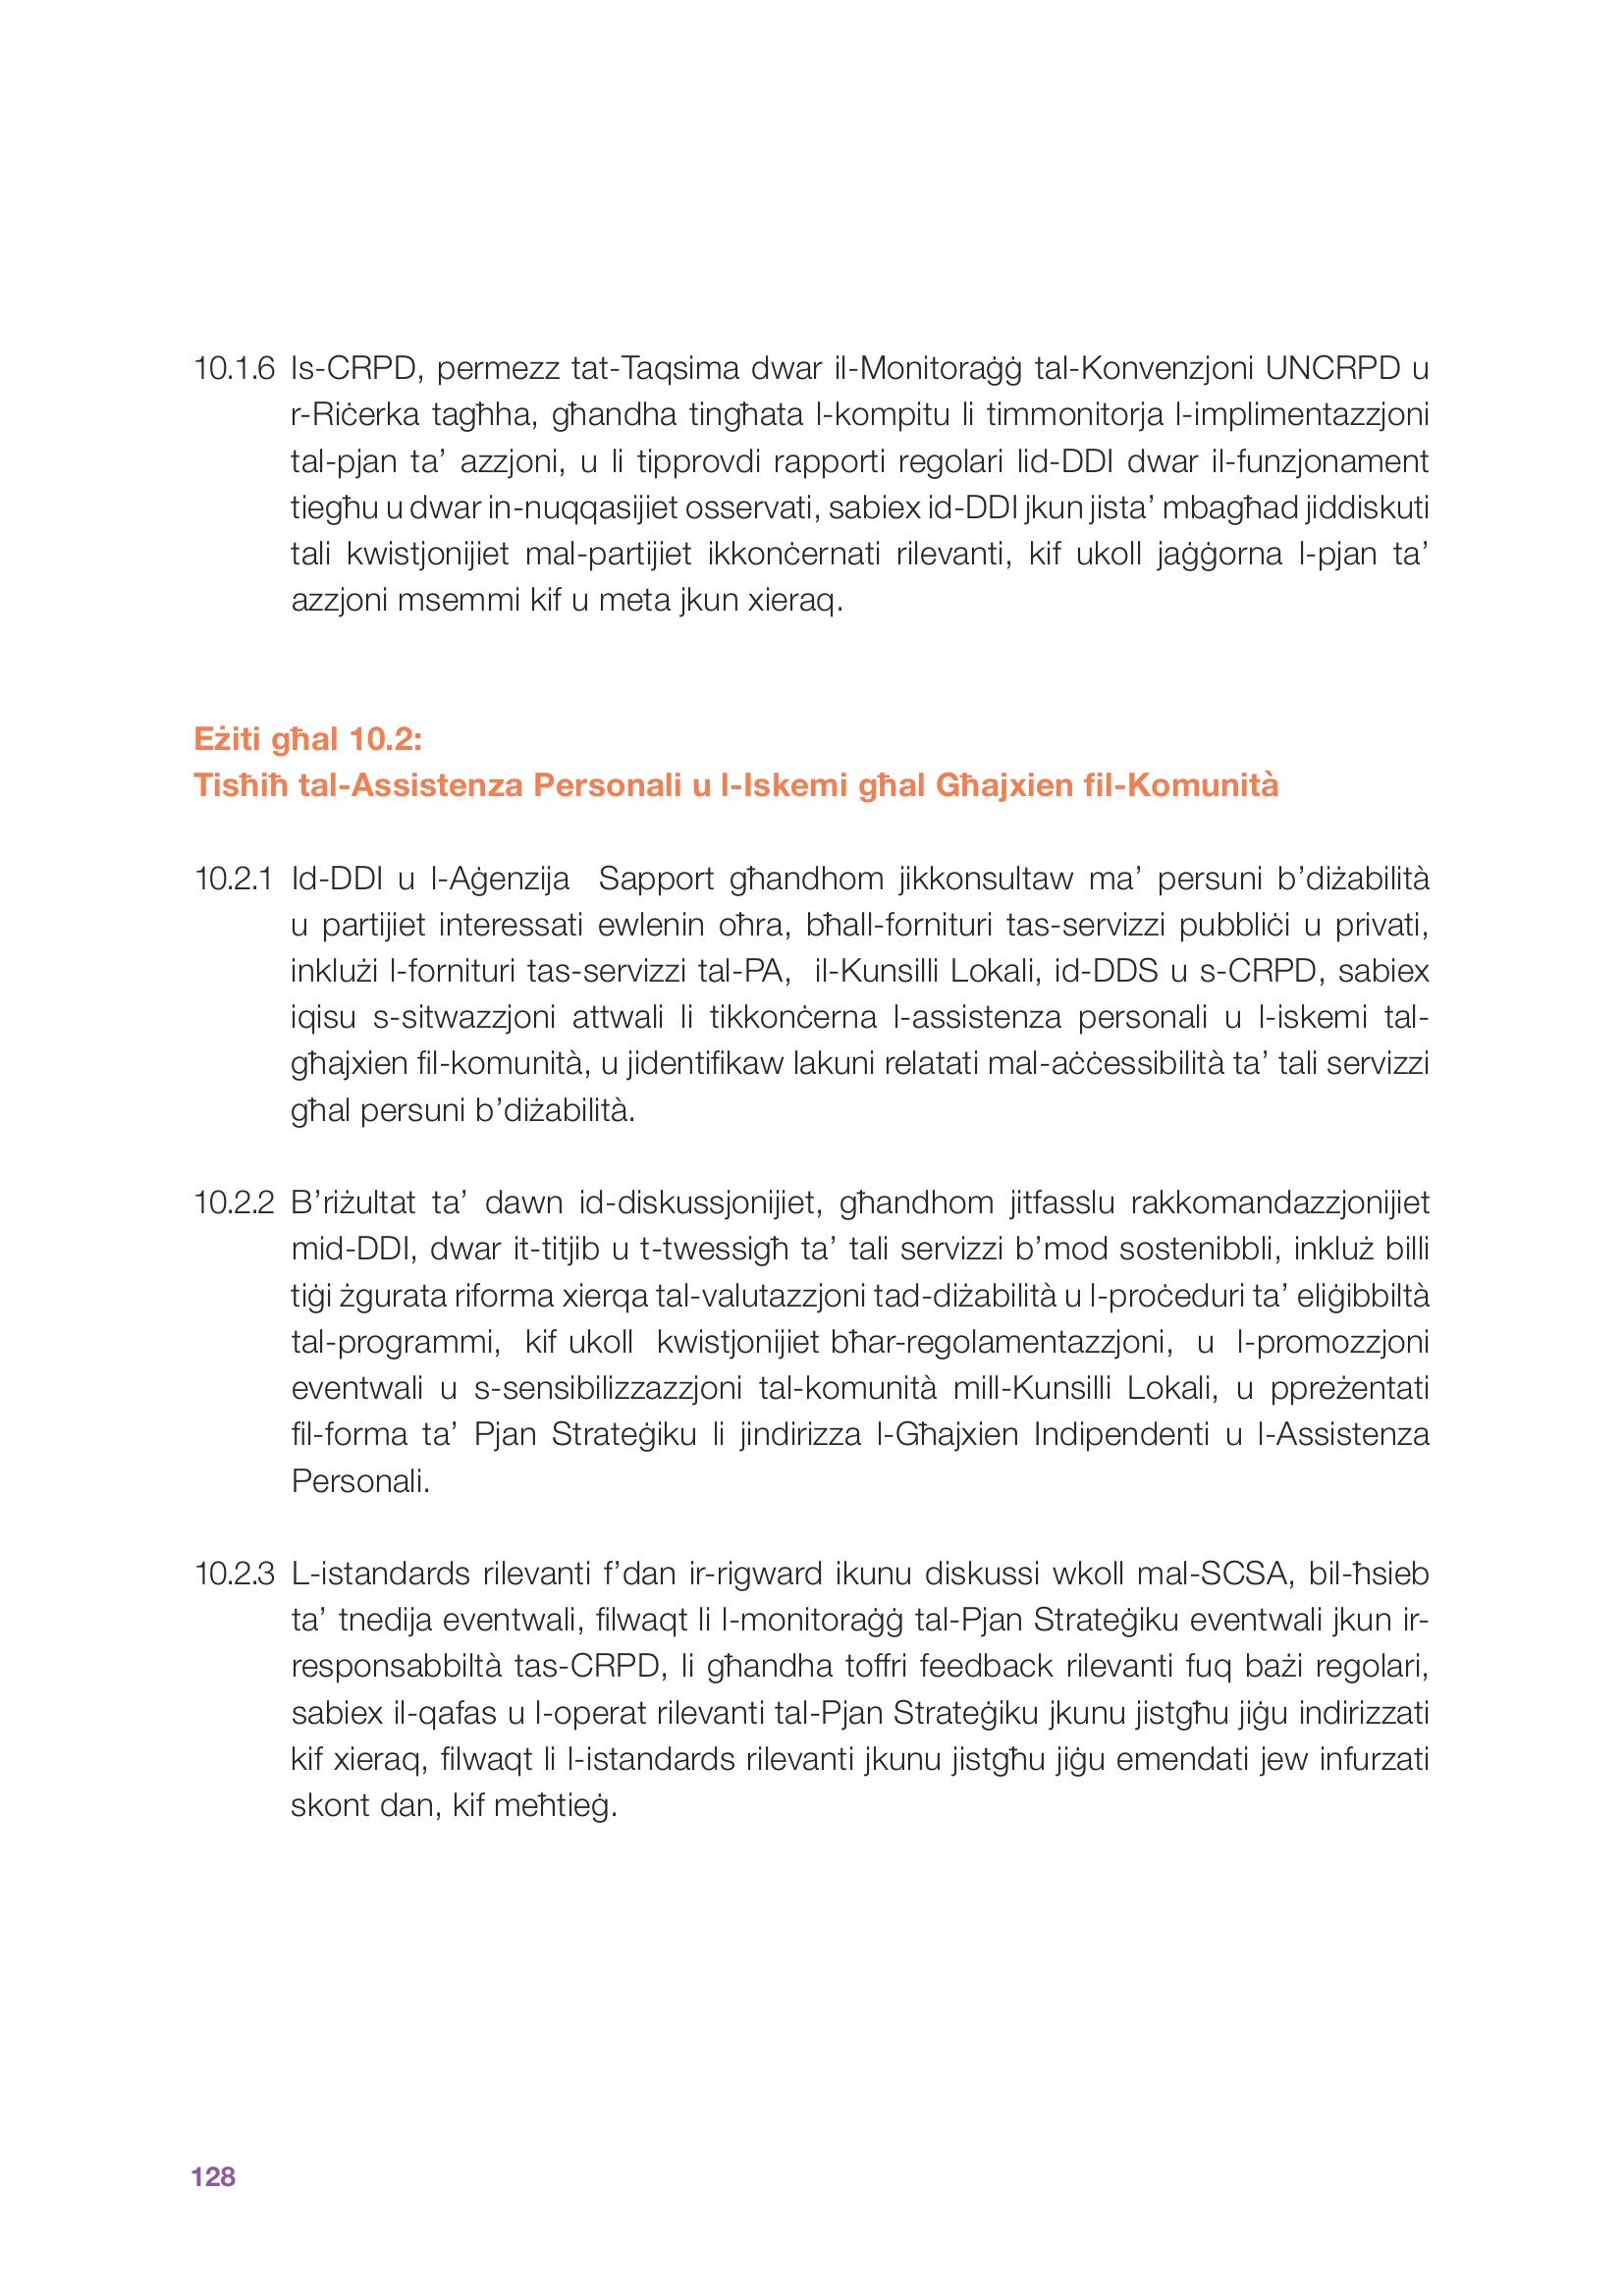text: (163, 292, 1469, 1869)
